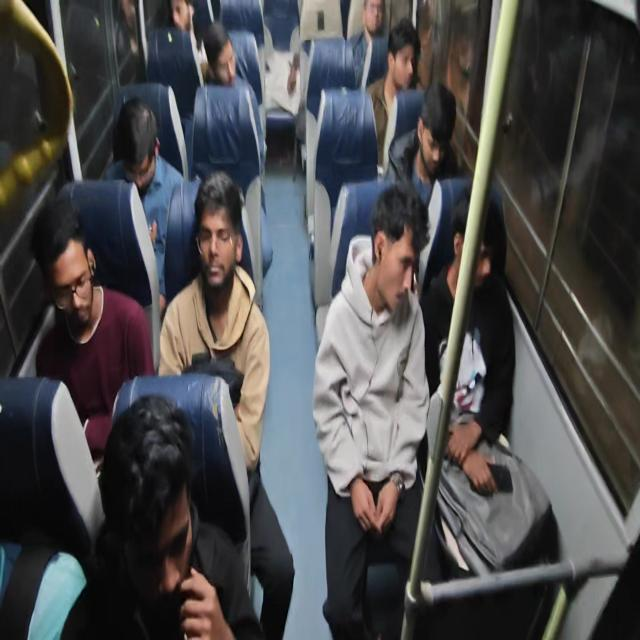person: (2, 392, 264, 639), (157, 170, 295, 638), (312, 180, 440, 638), (31, 195, 155, 464), (420, 189, 516, 496), (199, 21, 273, 274), (100, 96, 185, 314), (384, 80, 458, 206), (365, 17, 422, 175), (346, 0, 389, 91), (444, 13, 477, 117)
